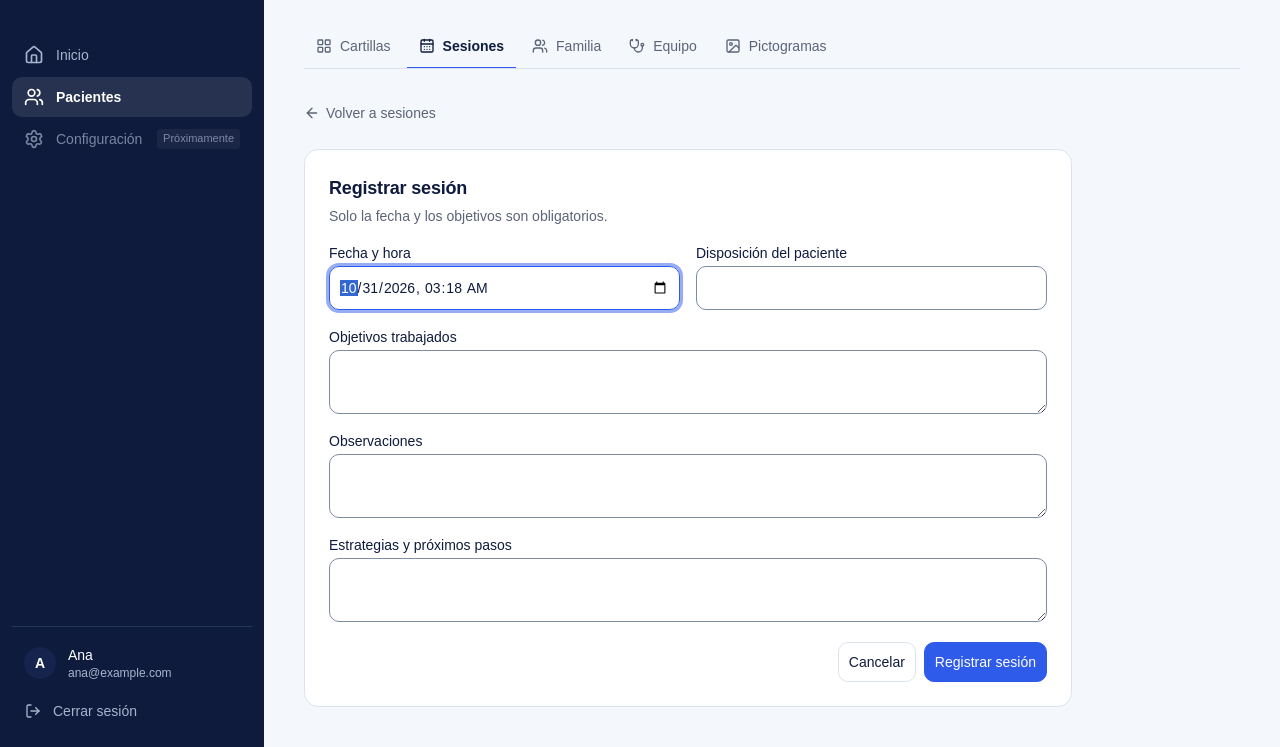
Scenario: NewSessionPage › requires objetivos trabajados before submitting
The width and height of the screenshot is (1280, 747).
(page scrolled)
What coordinates should you click on to do the following:
click the button "Registrar sesión"
I would click on:
 (985, 662)
Its box is [924,642,1047,682].
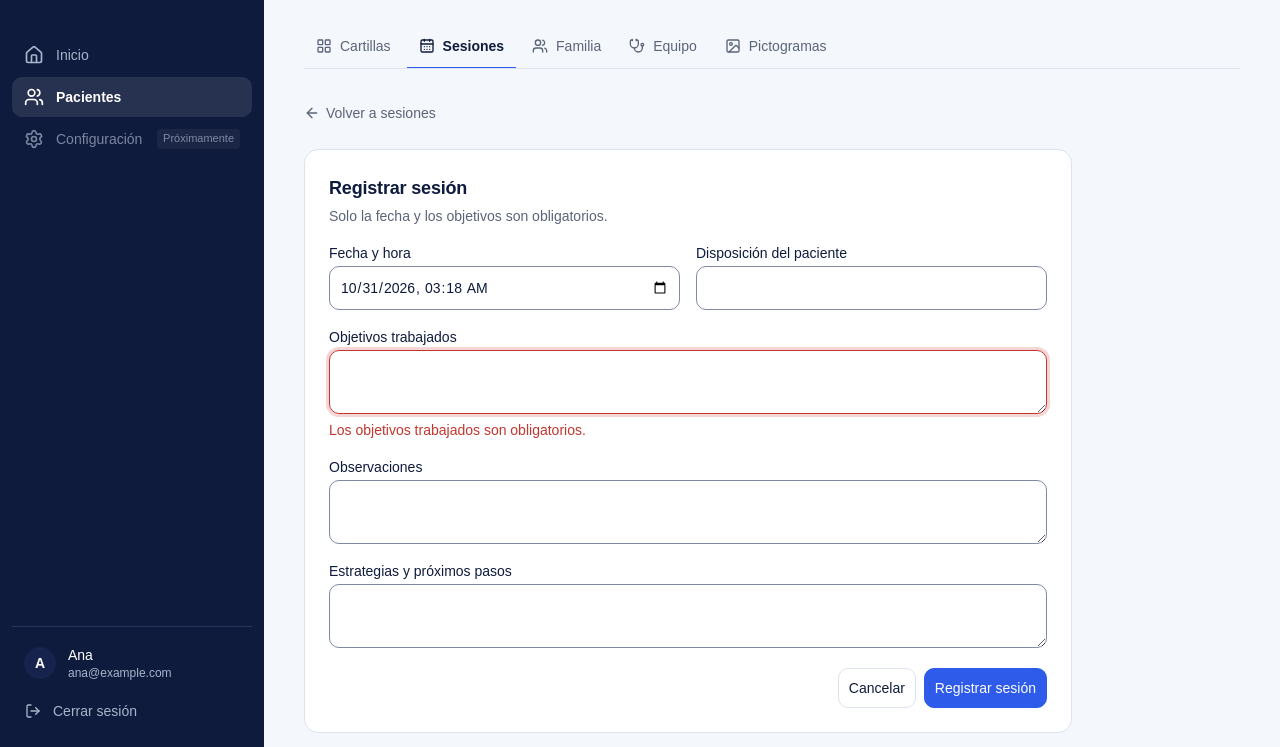
Now the text "Los objetivos trabajados son obligatorios." is shown, box [329,422,586,438]
